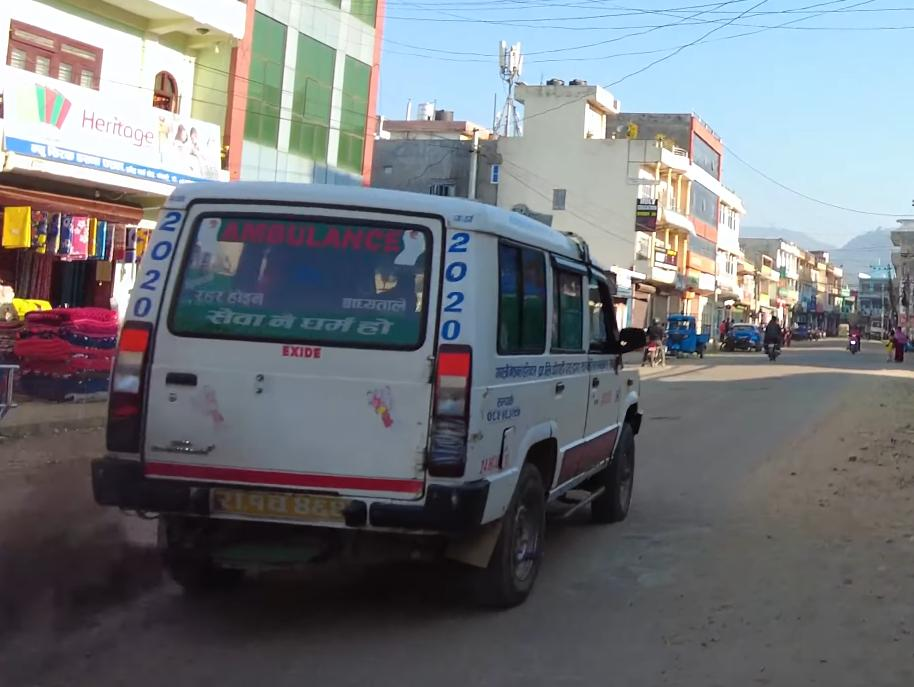ambulance: (84, 169, 647, 619)
